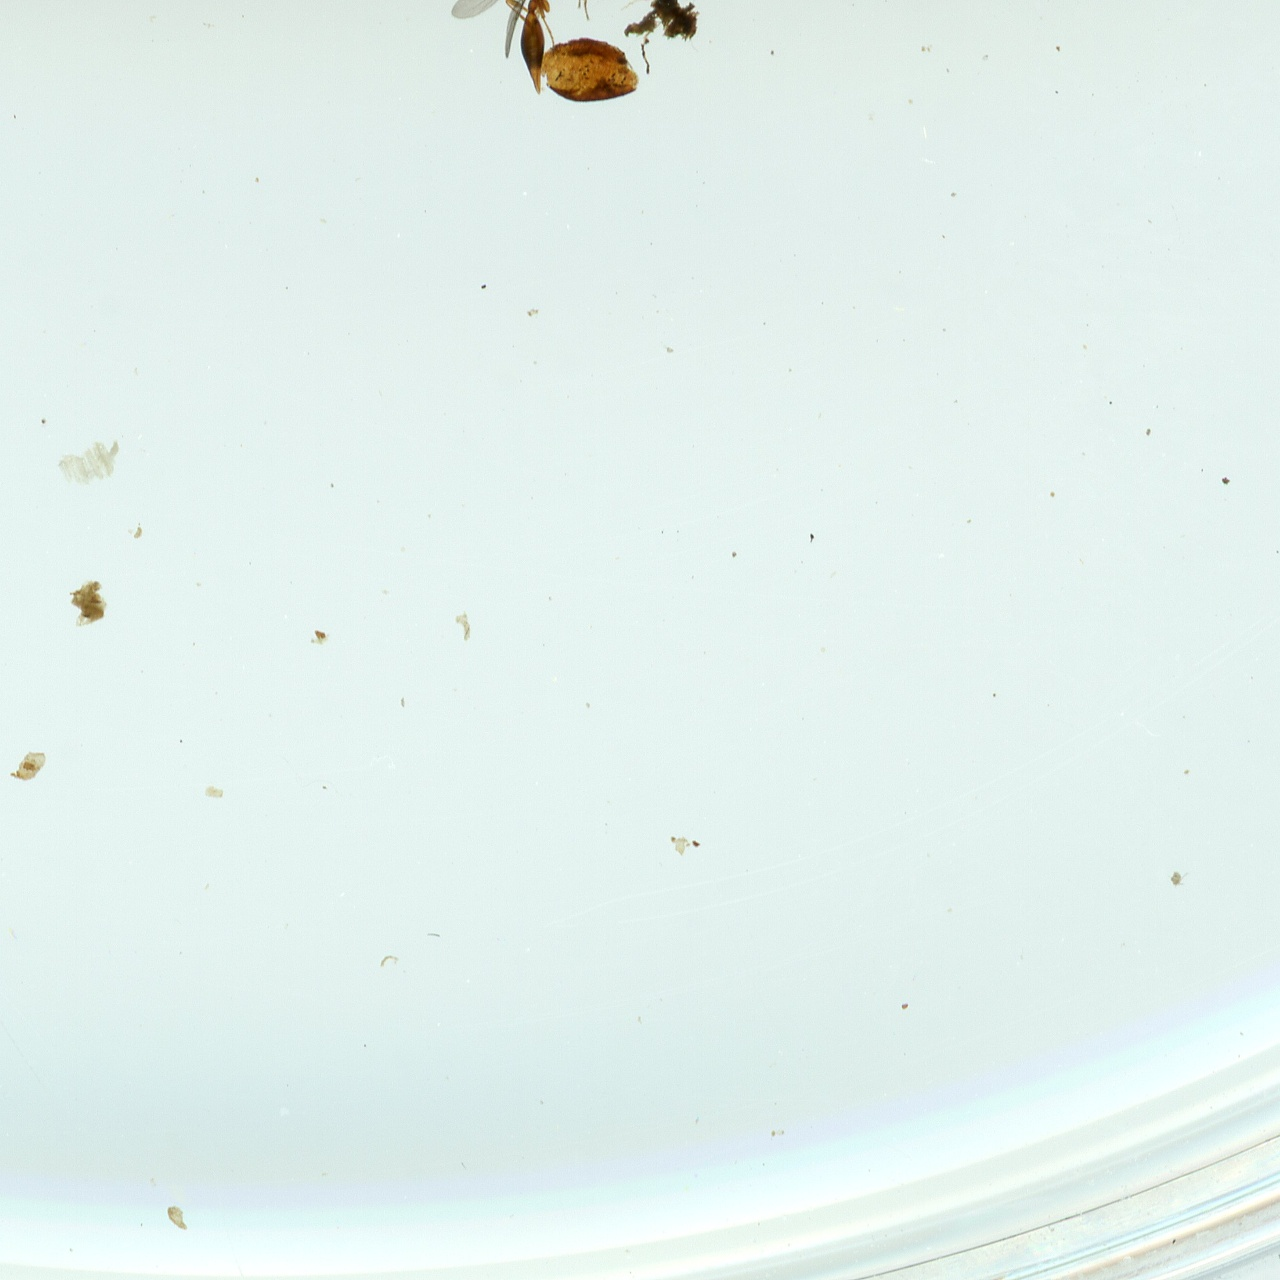arthropod: (431, 0, 662, 114)
